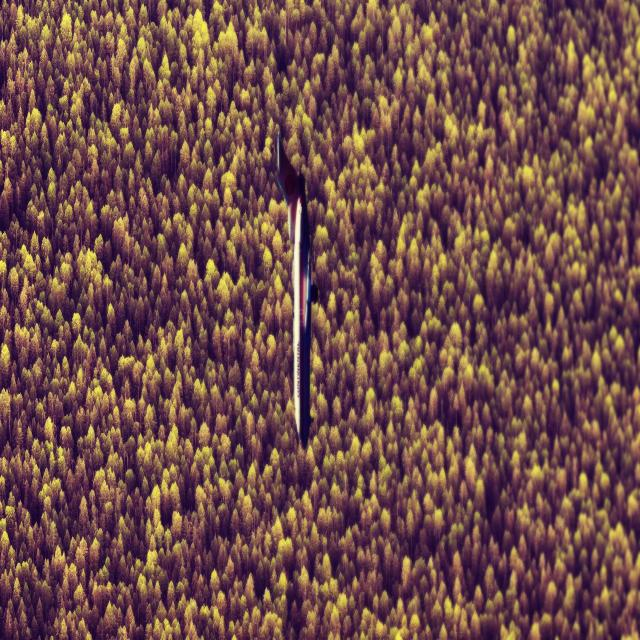airplane: (274, 129, 314, 449)
